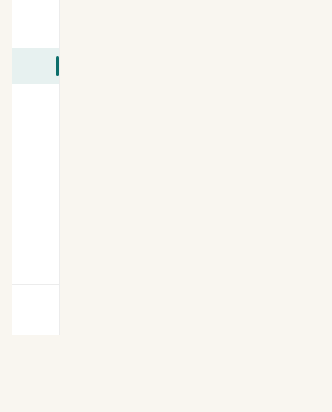
Scenario: NavigationSidebar › NAV-05: expands on hover › shows labels when expanded via mouseEnter
Hover over the navigation bar at [36, 168], box [12,0,60,335]
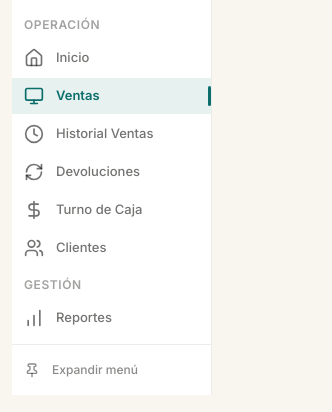
expect the text "Operación" is shown: met, box [24,17,100,32]
